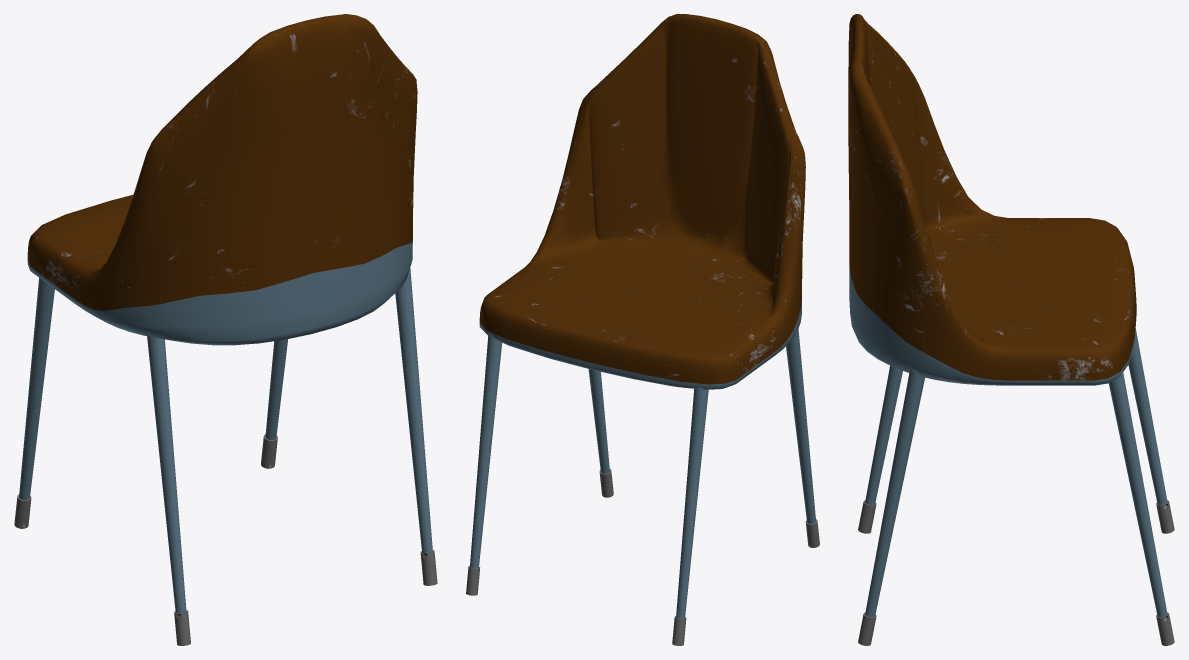
File: seat.fbx
The picture shows the model from 3 angles, left to right: view 1: azimuth 30°, elevation 25°; view 2: azimuth 150°, elevation 25°; view 3: azimuth 270°, elevation 25°; orthographic projection. The views are drawn at different scales.
Visible parts, largest first — view 1: seat, chairLeg1, chairLeg, chairLeg2, chairLeg3; view 2: seat, chairLeg3, chairLeg2, chairLeg1, chairLeg; view 3: seat, chairLeg, chairLeg3, chairLeg2, chairLeg1.
Boxes of the visible parts, x1,y1,x2,y2 form: seat: [27, 14, 417, 345]; chairLeg1: [147, 336, 190, 645]; chairLeg: [395, 268, 437, 585]; chairLeg2: [14, 278, 54, 528]; chairLeg3: [261, 339, 287, 468]; seat: [479, 14, 805, 389]; chairLeg3: [466, 332, 502, 595]; chairLeg2: [672, 387, 708, 645]; chairLeg1: [786, 328, 819, 547]; chairLeg: [588, 369, 613, 497]; seat: [848, 14, 1136, 385]; chairLeg: [858, 369, 924, 645]; chairLeg3: [1108, 369, 1174, 645]; chairLeg2: [1128, 329, 1174, 533]; chairLeg1: [858, 365, 902, 533].
Size of the model in its own units: 55.17 by 103 by 54.9.
